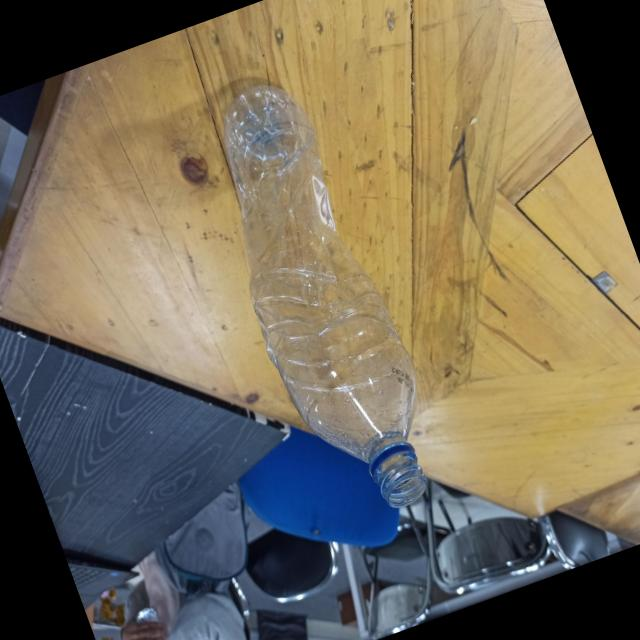BotolPlastik: (180, 67, 460, 534)
